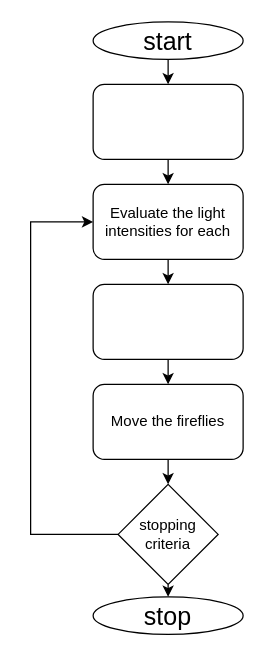
The diagram is 265 pixels wide and 656 high, and some of its shapes have lost their labels. Each missing label, with the box of its shape:
find the attraction potential: (92, 283, 243, 359)
Initial population of fireflies, define other constraints: (92, 83, 243, 159)
